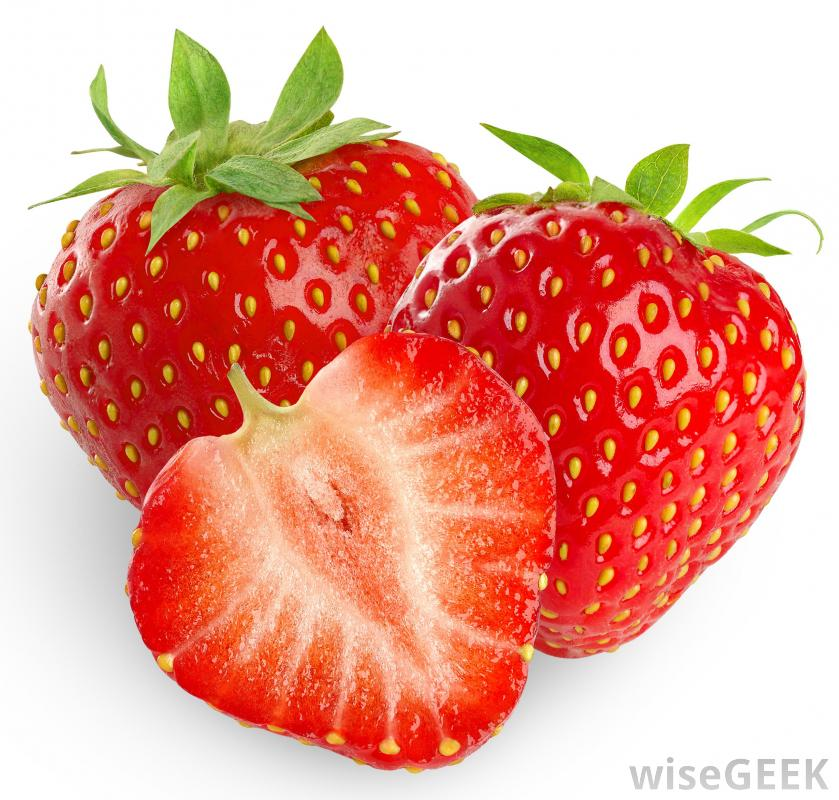strawberry: (127, 338, 537, 768), (434, 181, 783, 658), (44, 116, 444, 505)
